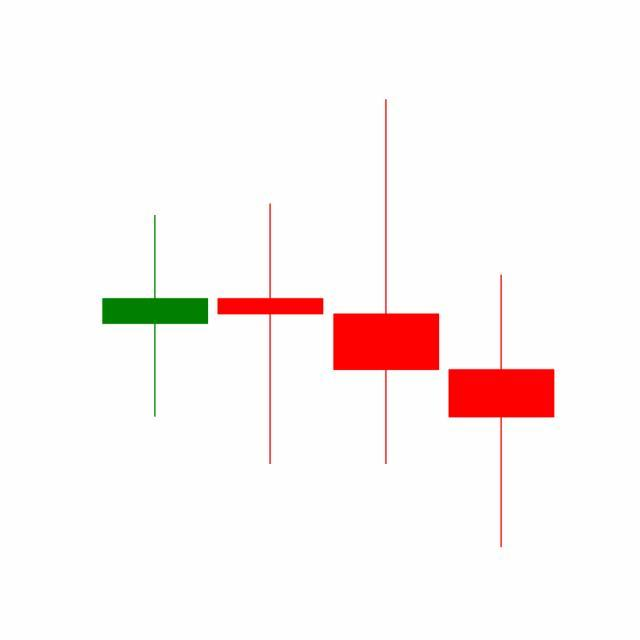Spinning Top: (444, 271, 560, 551)
